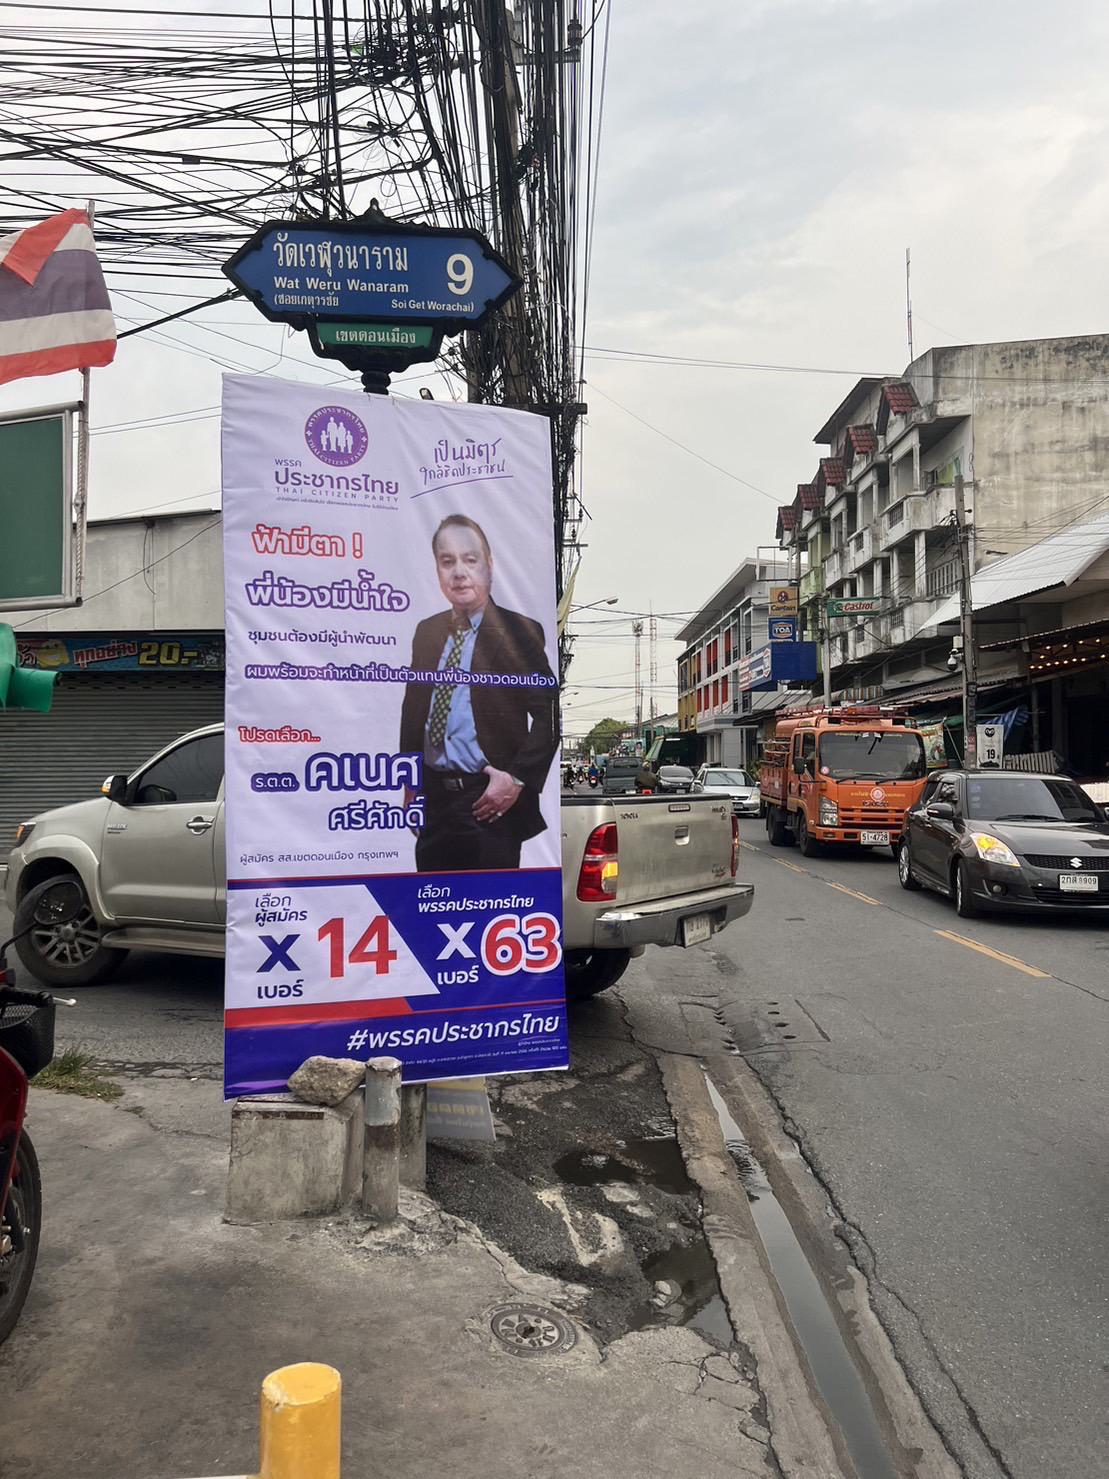Banner: (222, 352, 574, 1099)
